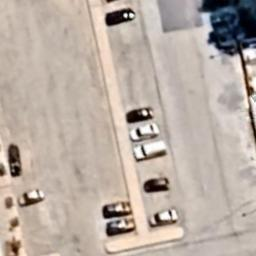SUV: (133, 140, 168, 160), (144, 176, 170, 193)
sedan: (106, 8, 138, 26), (150, 208, 180, 227), (102, 200, 132, 218), (19, 188, 47, 207), (106, 218, 135, 236), (130, 124, 160, 141), (126, 108, 154, 122)
unknown: (7, 141, 22, 178)
